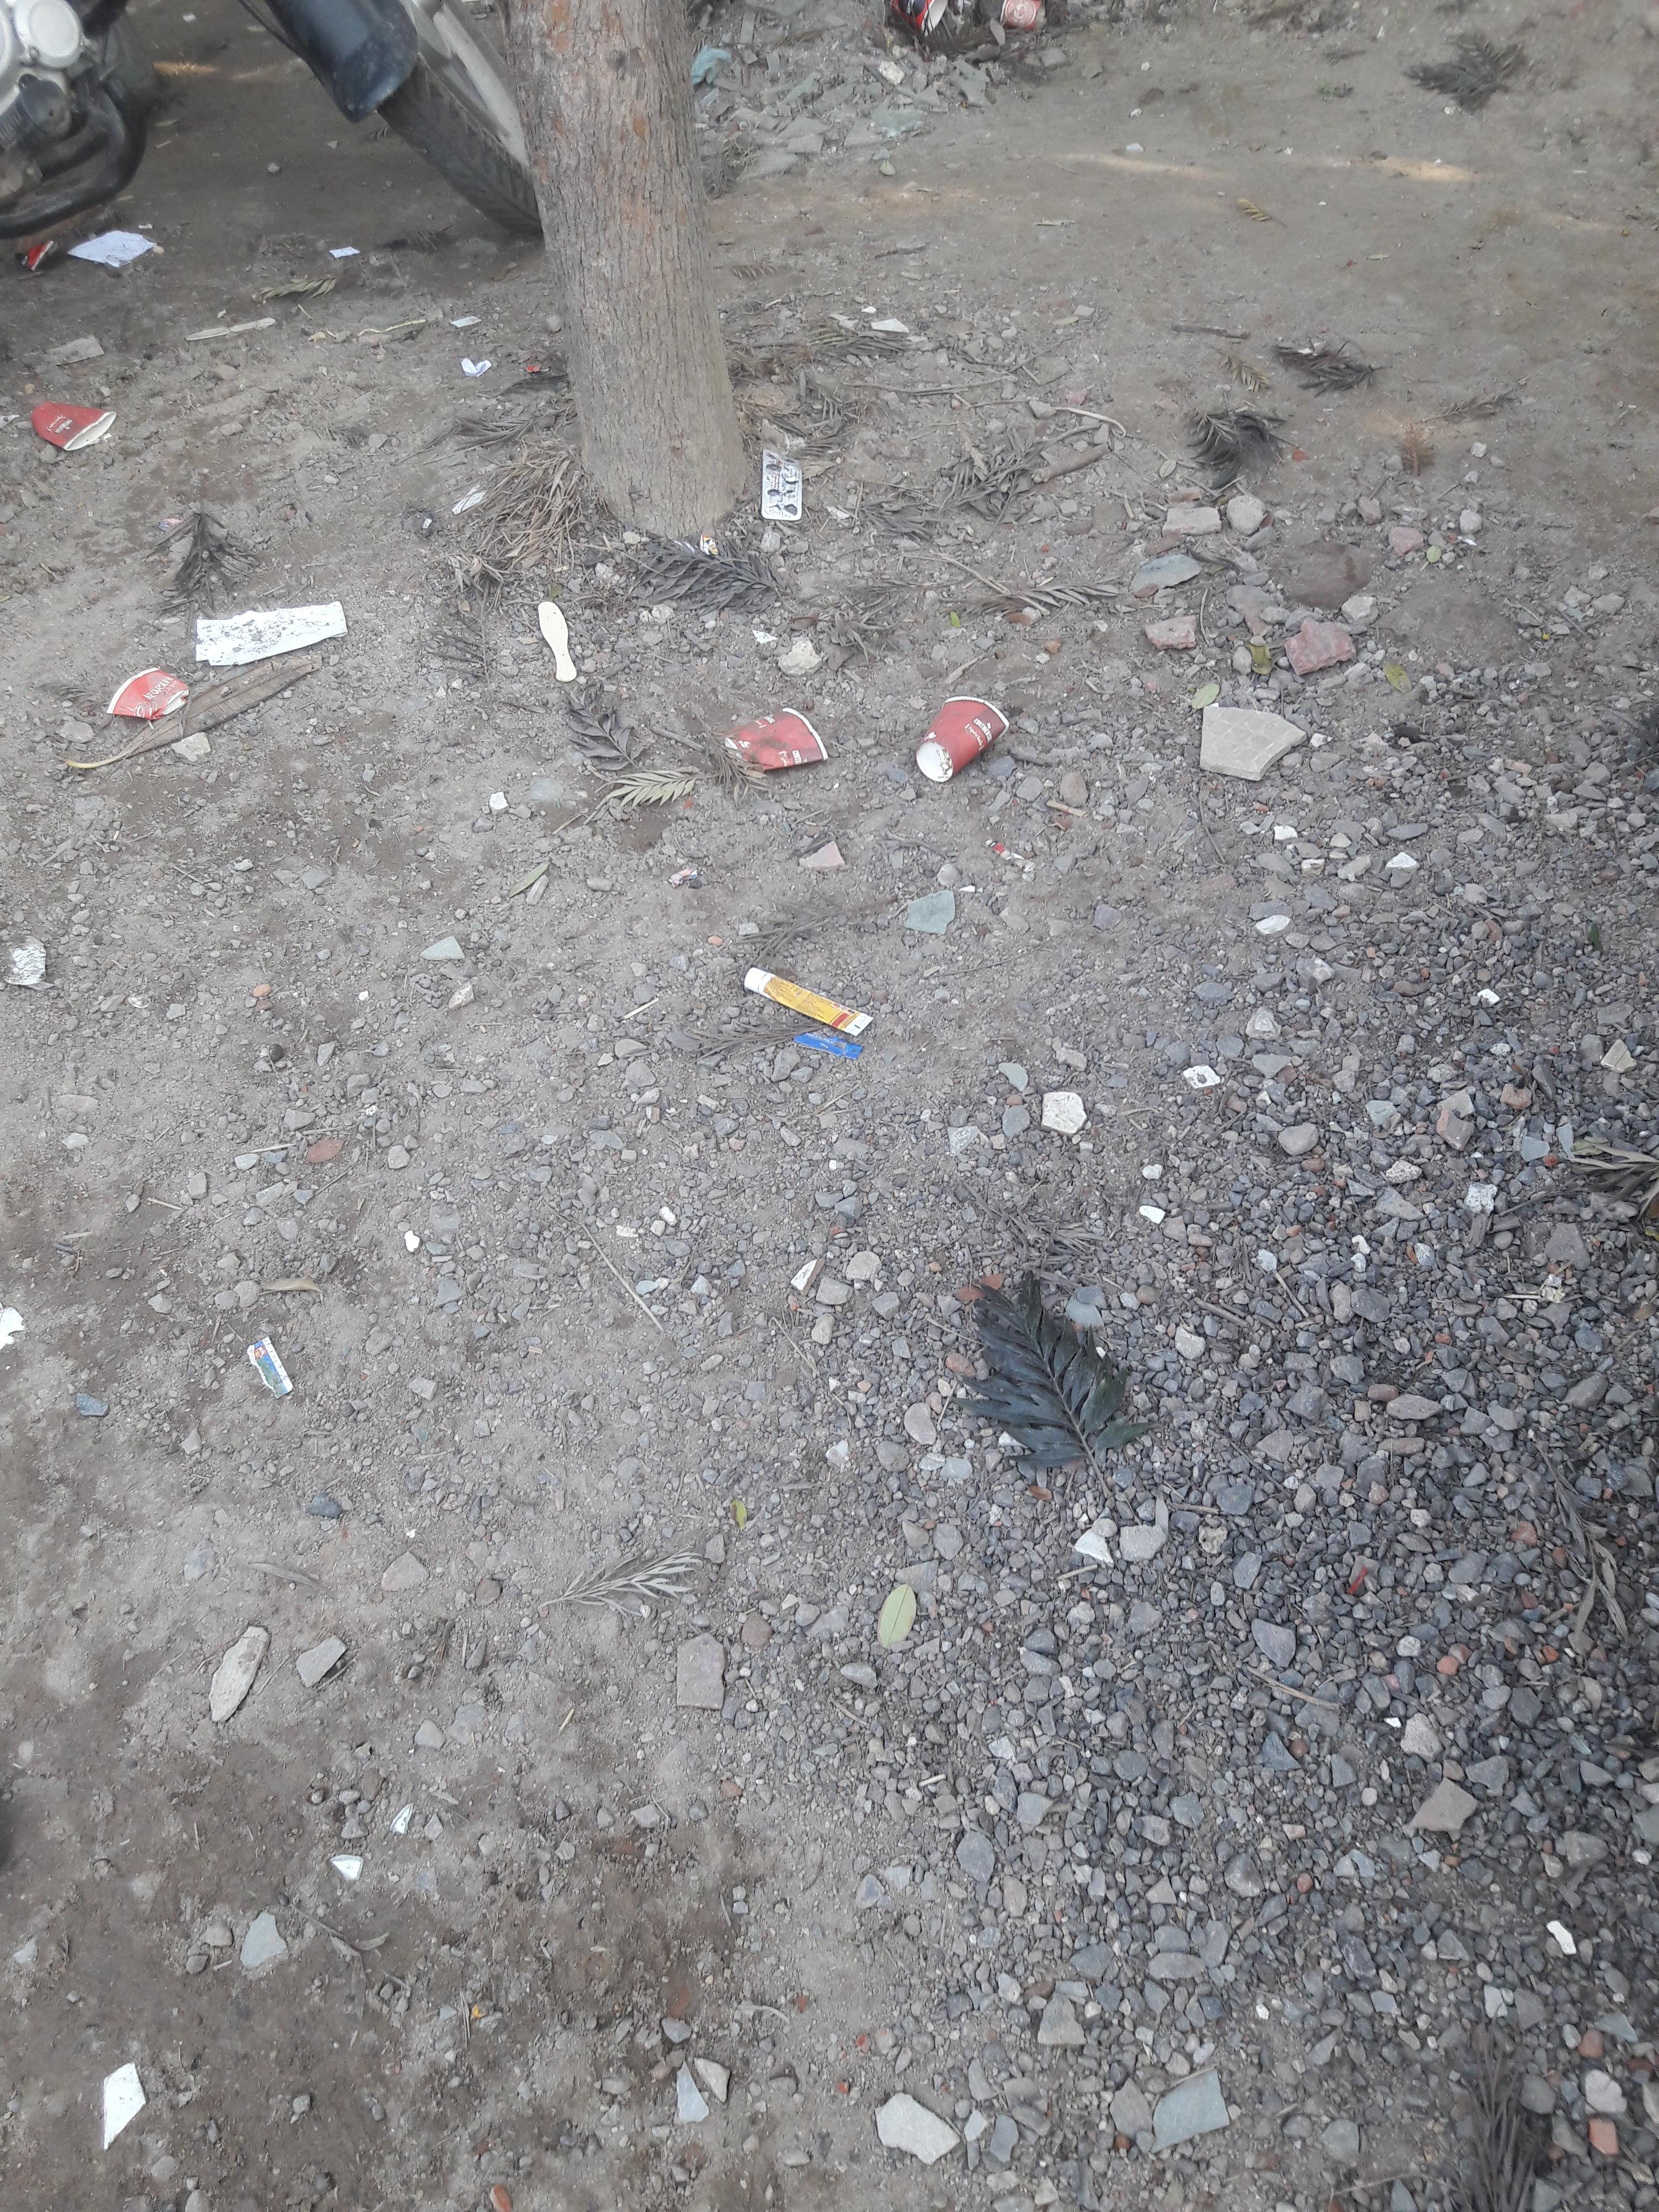trash: (705, 671, 1034, 814)
